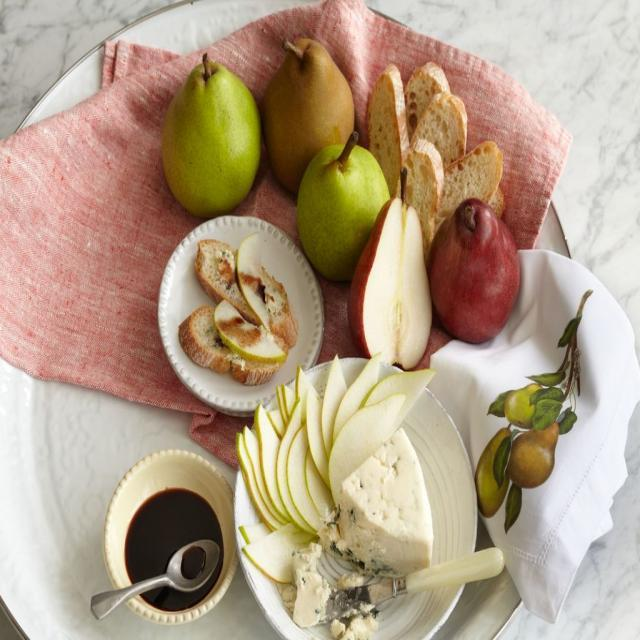Pear: (262, 39, 356, 200), (165, 62, 265, 213), (346, 198, 430, 370), (427, 194, 522, 344), (296, 143, 392, 283)
